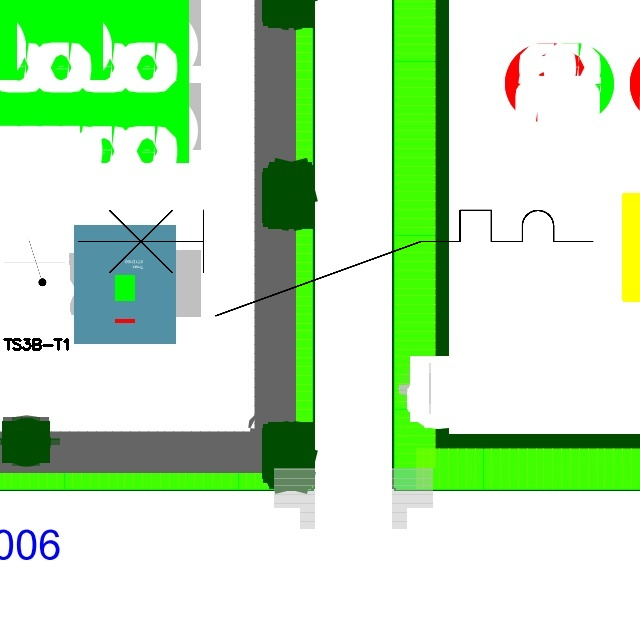interruptor_termomagnetico: (65, 197, 606, 329)
